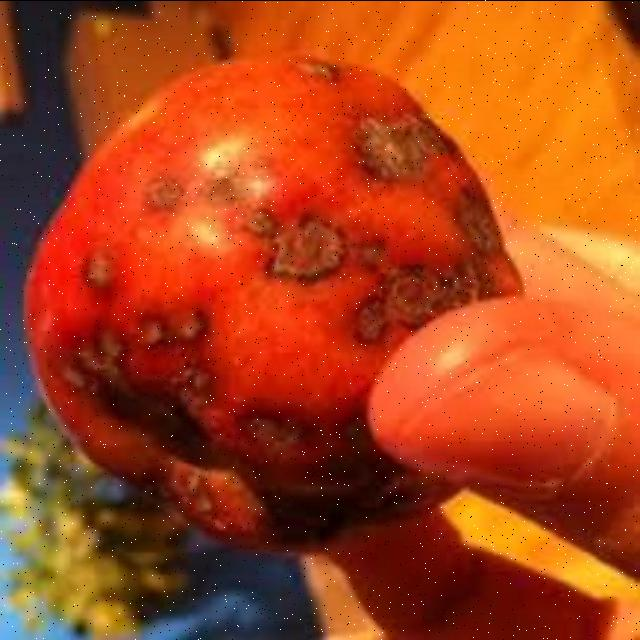SCAB: (9, 18, 564, 544)
